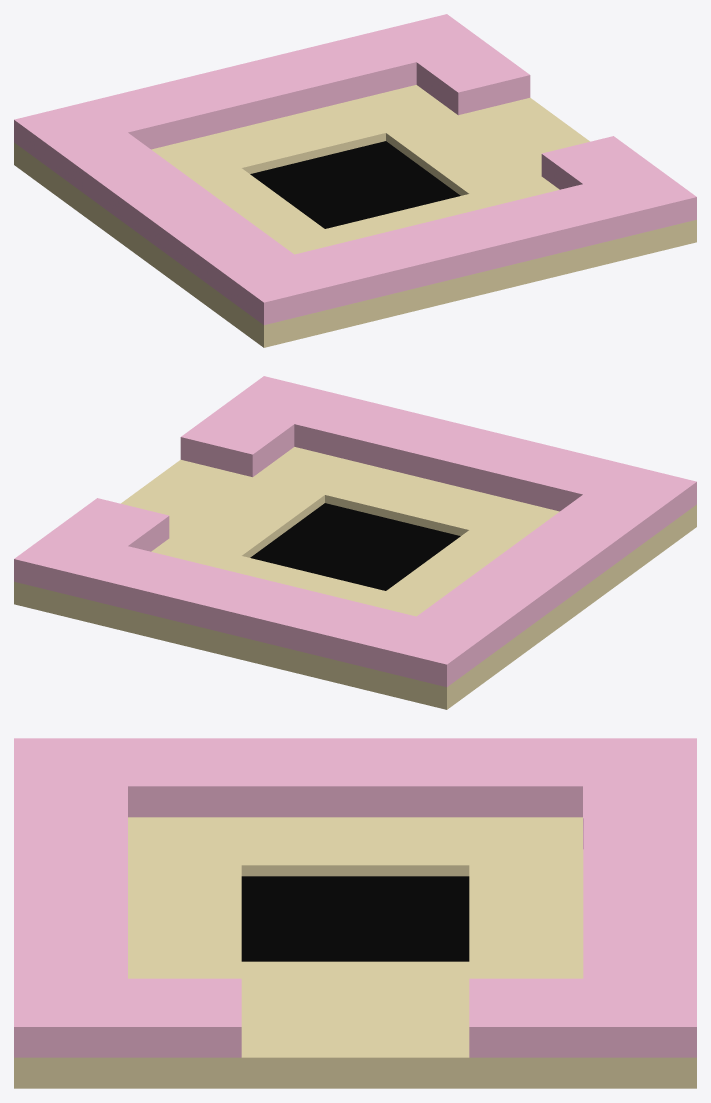
The model's file is CandylandEnd.fbx.
3 views of the same model, one above another, from view 1: azimuth 30°, elevation 25°; view 2: azimuth 150°, elevation 25°; view 3: azimuth 270°, elevation 25° (orthographic). The views are drawn at different scales.
Visible parts, largest first — view 1: CandylandEnd; view 2: CandylandEnd; view 3: CandylandEnd.
Boxes of the visible parts, box(x1,y1,x2,y2) form: CandylandEnd: box(14, 14, 696, 347); CandylandEnd: box(14, 376, 696, 709); CandylandEnd: box(14, 738, 696, 1088).
Size of the model in its own units: 1 by 0.1 by 1.
